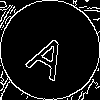A: (25, 25, 77, 82)
